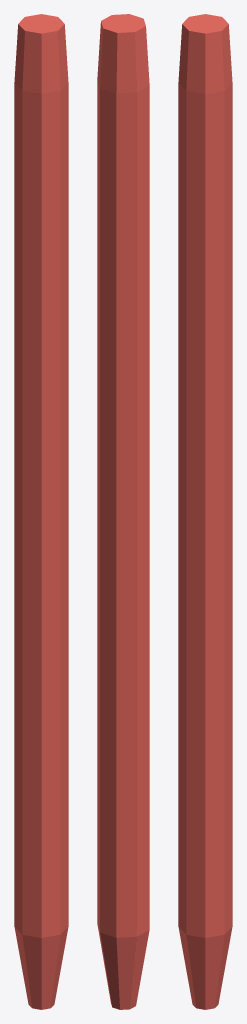
Rendered from hazard_stake_red_03.glb.
The picture shows the model from 3 angles, left to right: view 1: azimuth 90°, elevation 25°; view 2: azimuth 210°, elevation 25°; view 3: azimuth 270°, elevation 25°; orthographic projection.
Visible parts, largest first — view 1: Hazard_stake_red_03; view 2: Hazard_stake_red_03; view 3: Hazard_stake_red_03.
Boxes of the visible parts, box(x1,y1,x2,y2) form: Hazard_stake_red_03: box(14, 14, 68, 1009); Hazard_stake_red_03: box(97, 14, 149, 1009); Hazard_stake_red_03: box(178, 14, 232, 1009).
Bounding box in the file's own units: 0.05 × 1 × 0.05.
